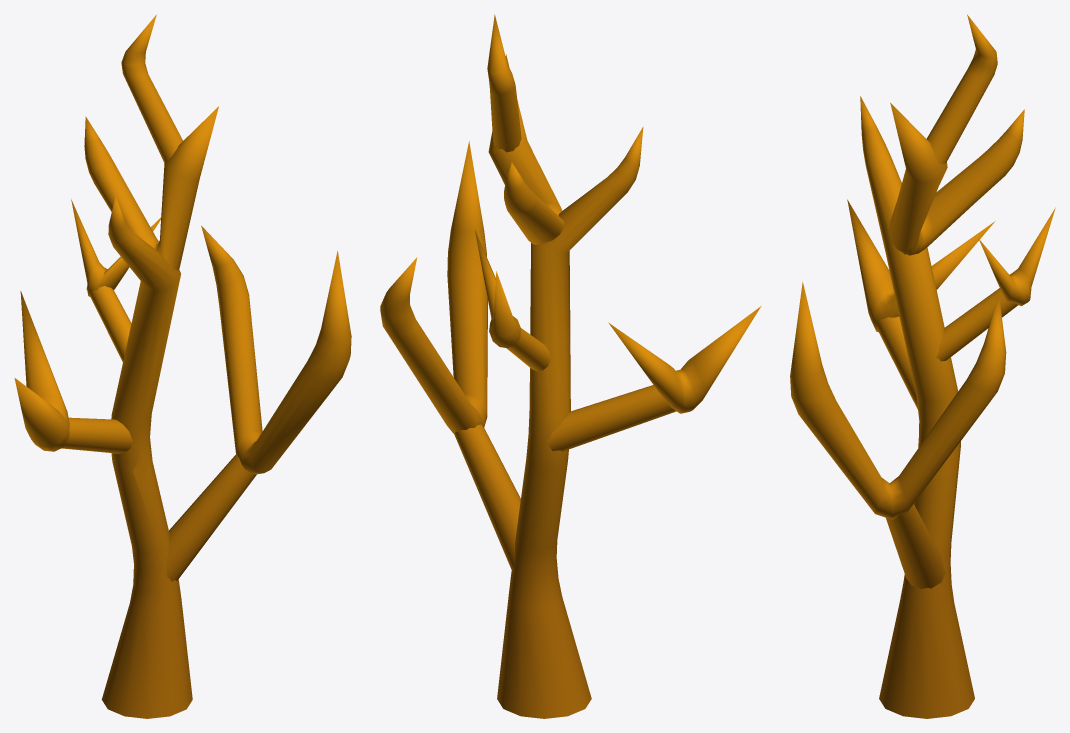
Rendered from Tree_04.4.fbx.
The picture shows the model from 3 angles, left to right: view 1: azimuth 30°, elevation 25°; view 2: azimuth 150°, elevation 25°; view 3: azimuth 270°, elevation 25°; orthographic projection. The views are drawn at different scales.
Parts seen in each view (by area): view 1: Tree_04.4; view 2: Tree_04.4; view 3: Tree_04.4.
Boxes of the visible parts, x1,y1,x2,y2 form: Tree_04.4: [14, 14, 351, 718]; Tree_04.4: [380, 14, 761, 718]; Tree_04.4: [790, 14, 1055, 718].
Bounding box in the file's own units: 166 × 115 × 332.
